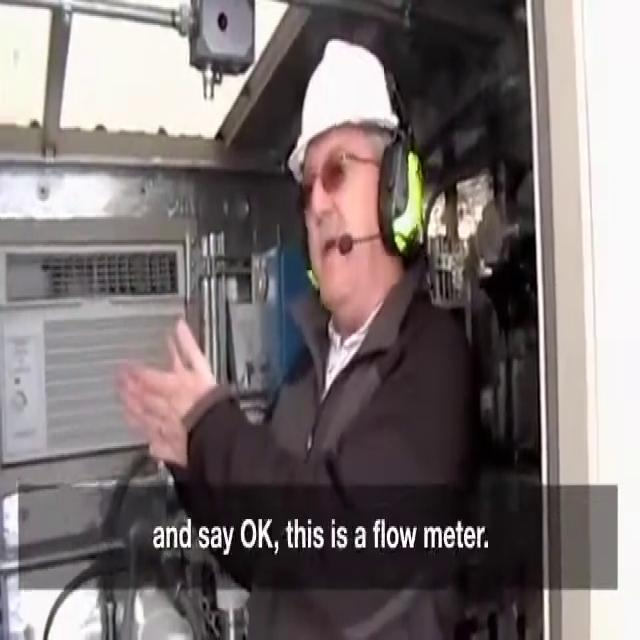earmuff: (375, 131, 429, 265)
glasses: (297, 144, 377, 210)
helmet: (285, 31, 416, 190)
